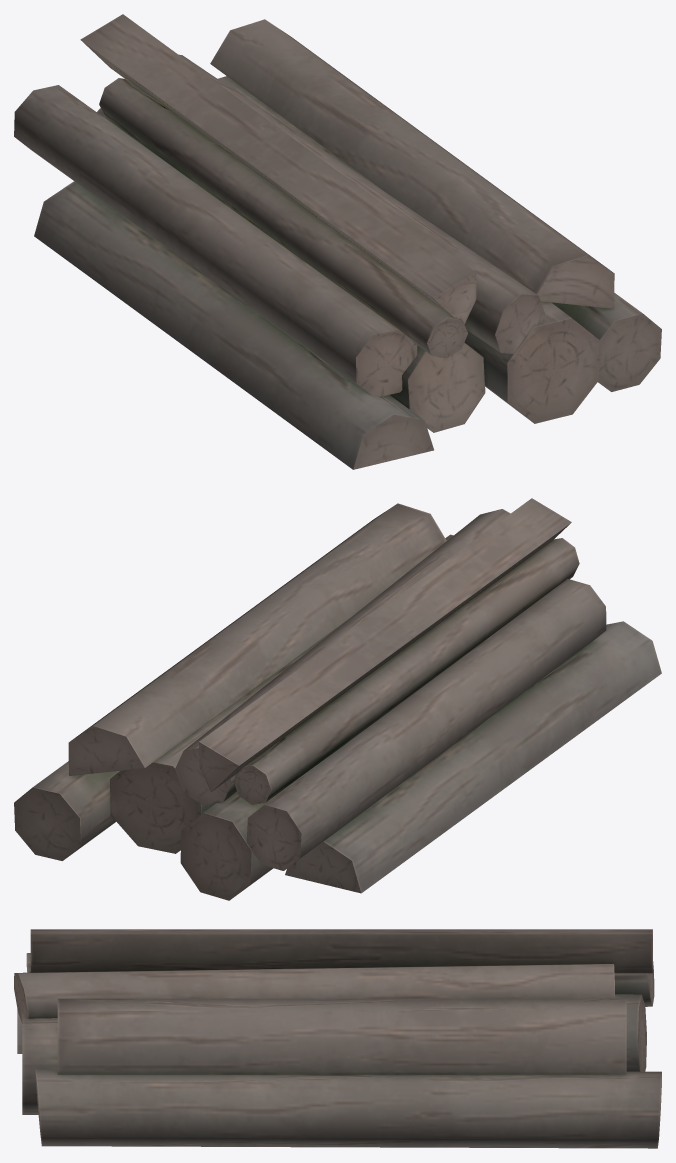
3 renders of one model, top to bottom at view 1: azimuth 30°, elevation 25°; view 2: azimuth 150°, elevation 25°; view 3: azimuth 270°, elevation 25°, orthographic. The views are drawn at different scales.
Visible parts, largest first — view 1: submesh_0; view 2: submesh_0; view 3: submesh_0.
Boxes of the visible parts, x1,y1,x2,y2 form: submesh_0: [14, 14, 661, 469]; submesh_0: [14, 498, 661, 900]; submesh_0: [14, 929, 661, 1148].
Bounding box in the file's own units: 0.3357 × 0.1639 × 0.663.
1 material, 1 textured.
